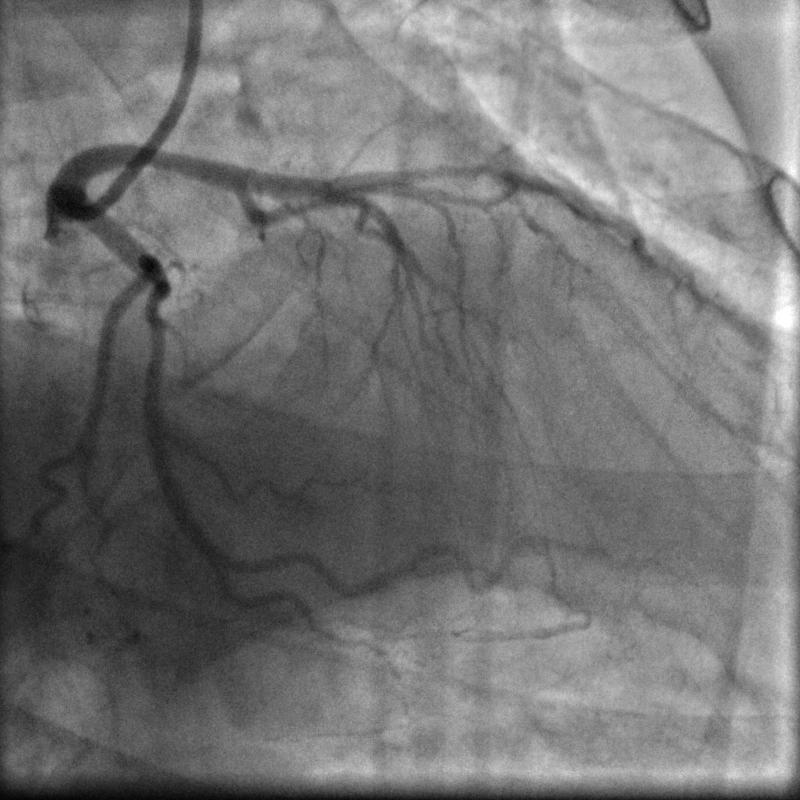Stenosis: (138, 277, 182, 336)
